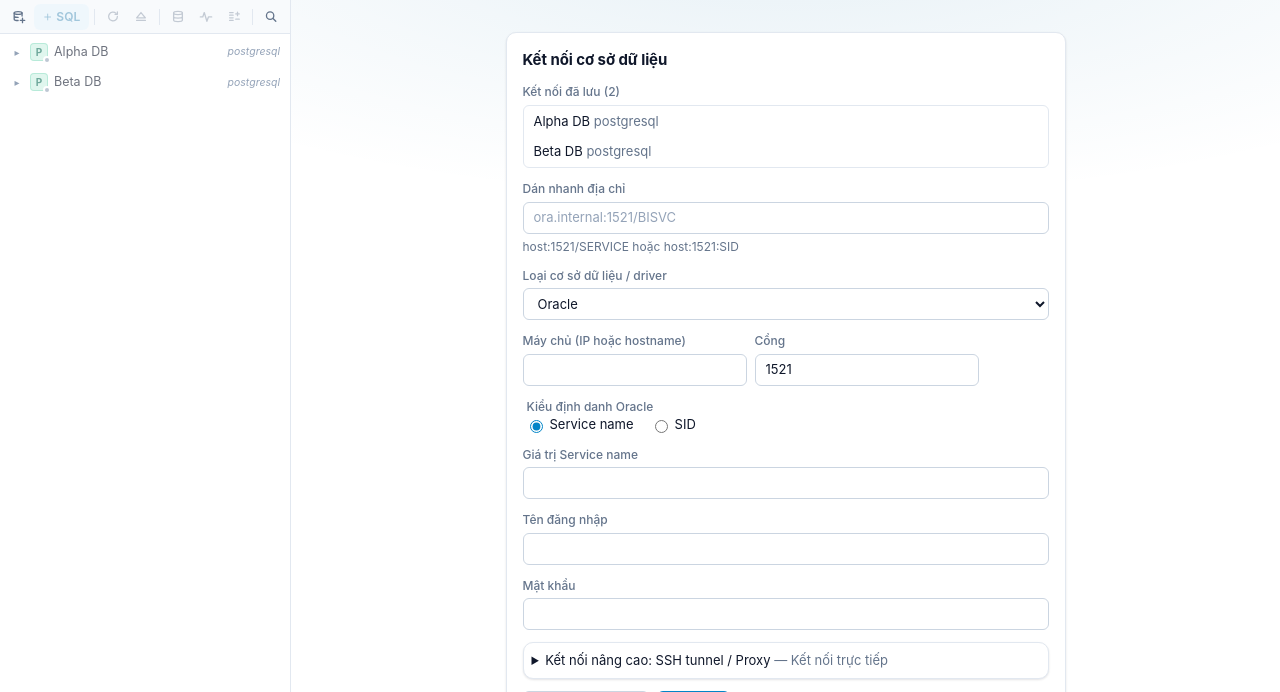
Navigator: saved connections tree › a saved connection without a stored password opens the connection dialog instead of connecting
Double-click the 1st text "Beta DB" at (78,82), box [54, 74, 101, 89]
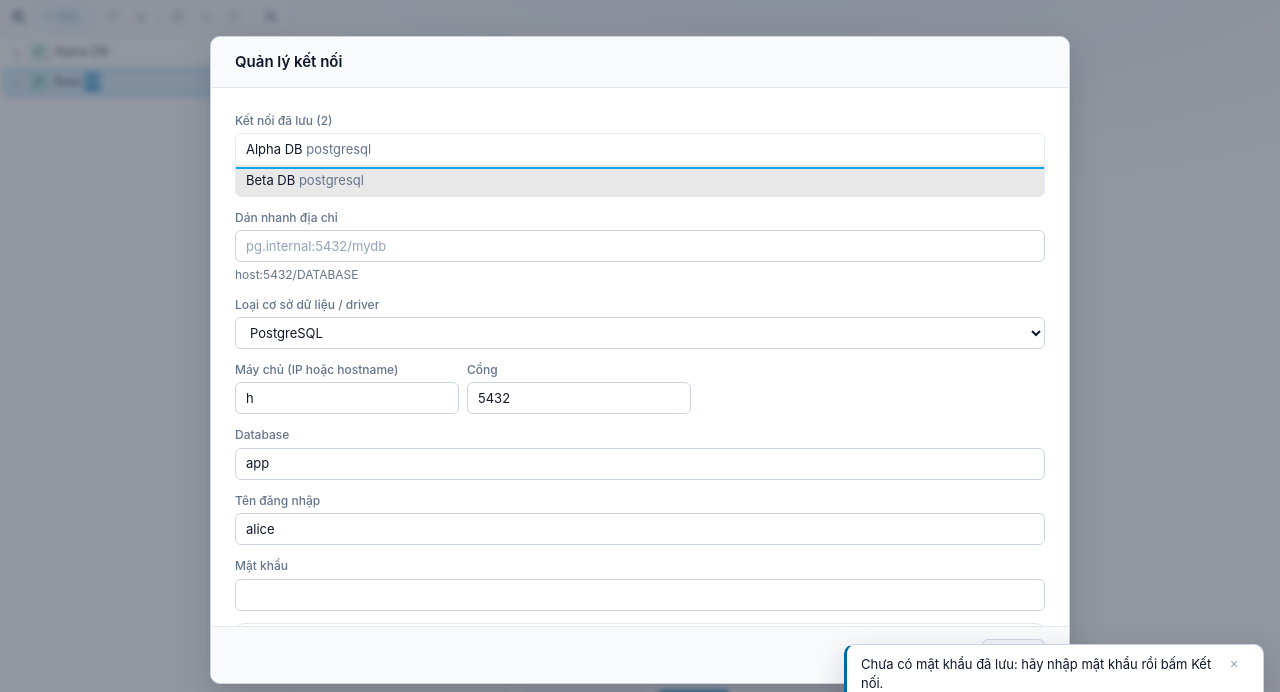
Check: the dialog "Quản lý kết nối" is shown
